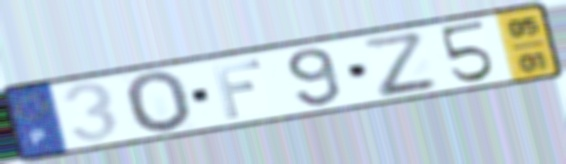3: (61, 78, 125, 146)
5: (435, 18, 496, 85)
9: (285, 46, 344, 109)
F: (209, 57, 265, 122)
O: (122, 68, 196, 137)
Z: (357, 29, 442, 100)
